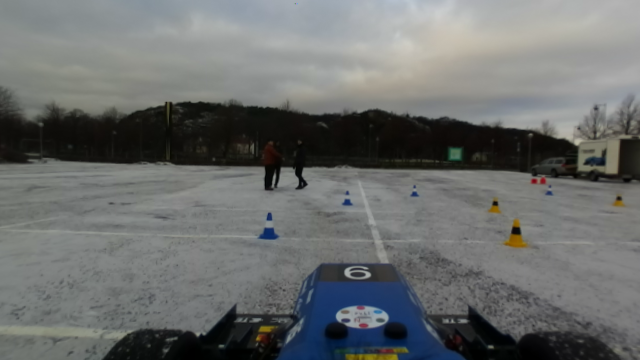blue: (258, 210, 281, 239)
yellow: (502, 217, 533, 250)
